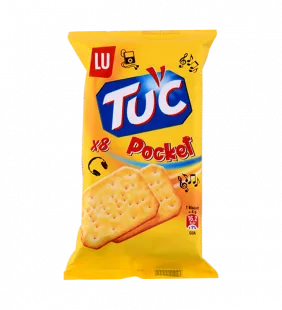TUC: (52, 20, 228, 292)
